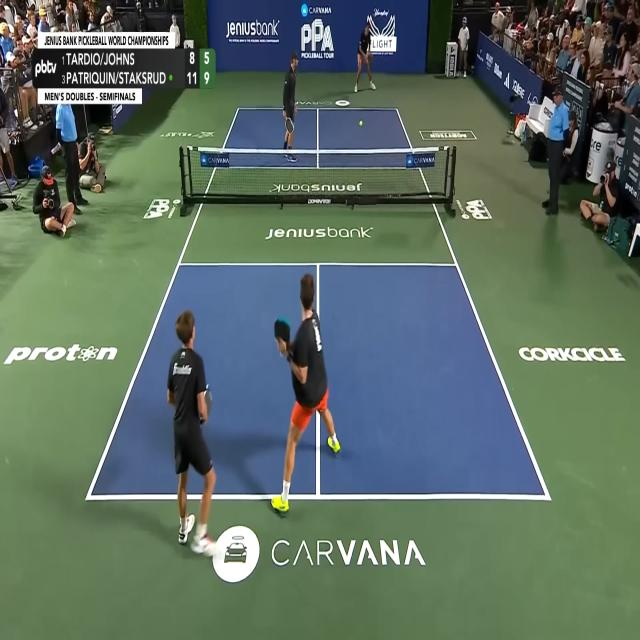ball: (359, 120, 363, 126)
